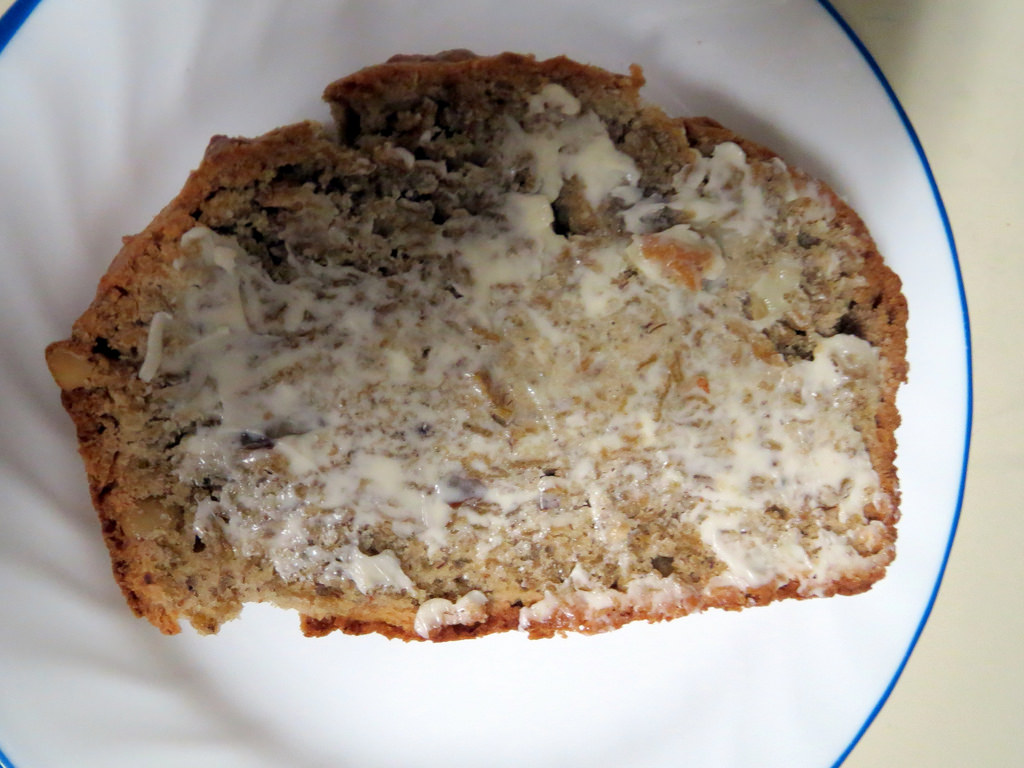slice of bread: (60, 132, 904, 617)
